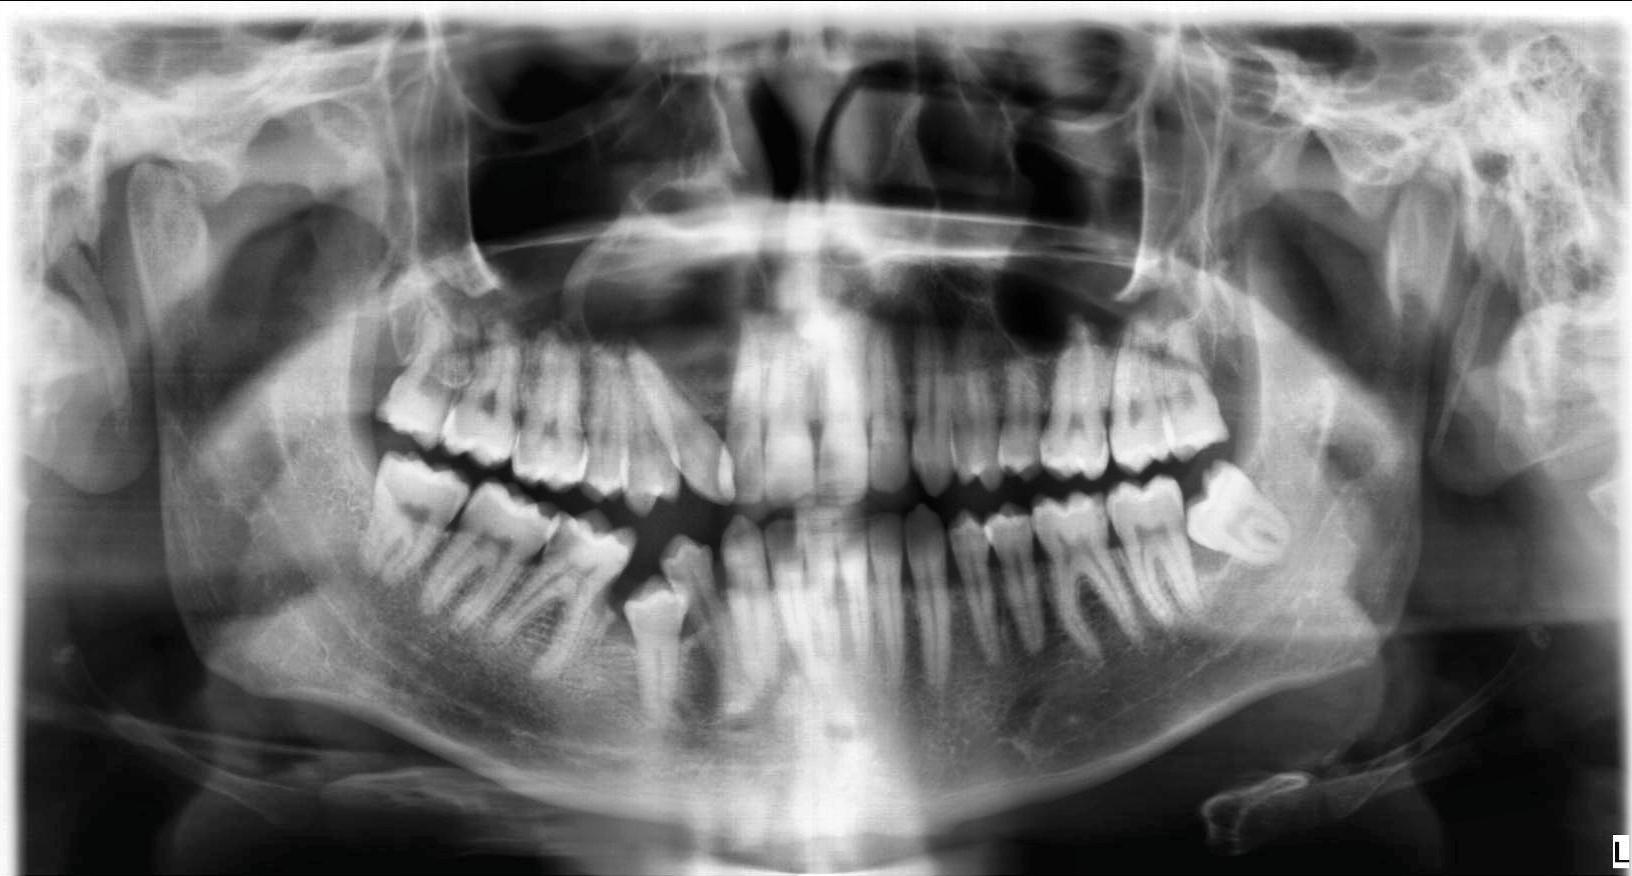radikuler: (583, 181, 769, 393)
